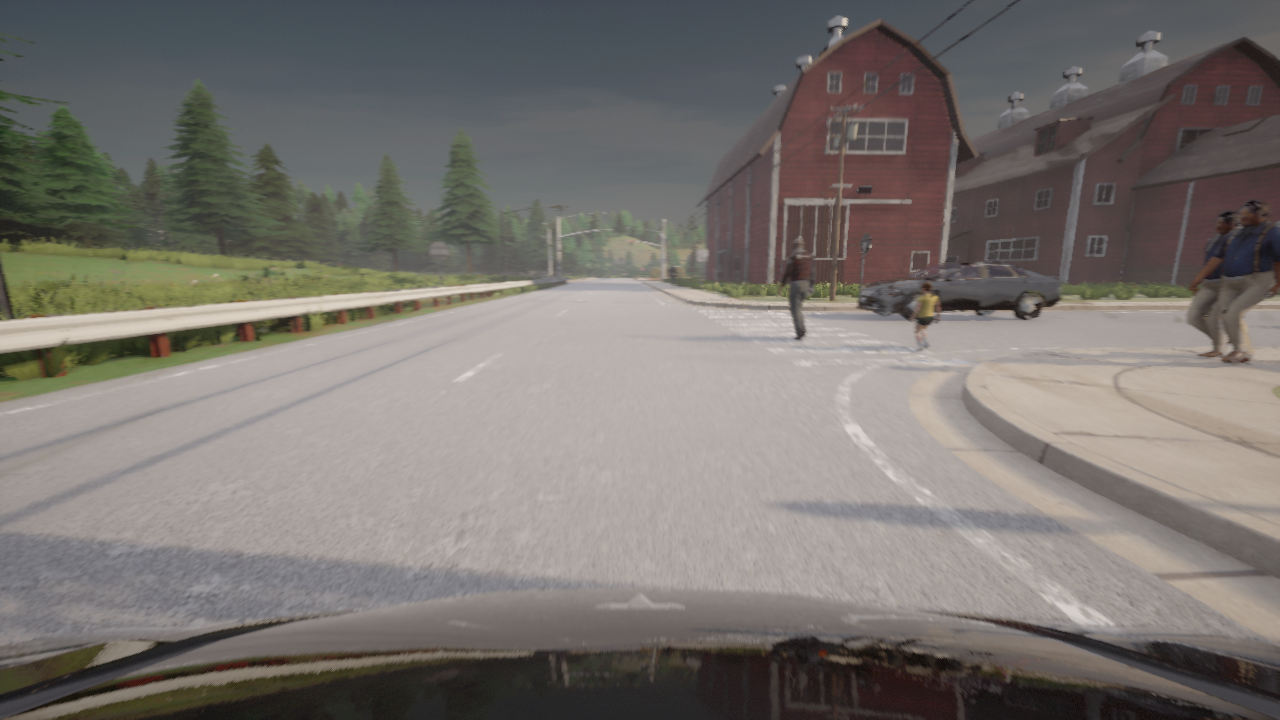cyclist: (0, 588, 1279, 719), (857, 262, 1062, 320)
pedestrian: (1188, 199, 1279, 364), (1187, 210, 1240, 357), (777, 238, 815, 340), (910, 282, 939, 351), (667, 263, 676, 287)
